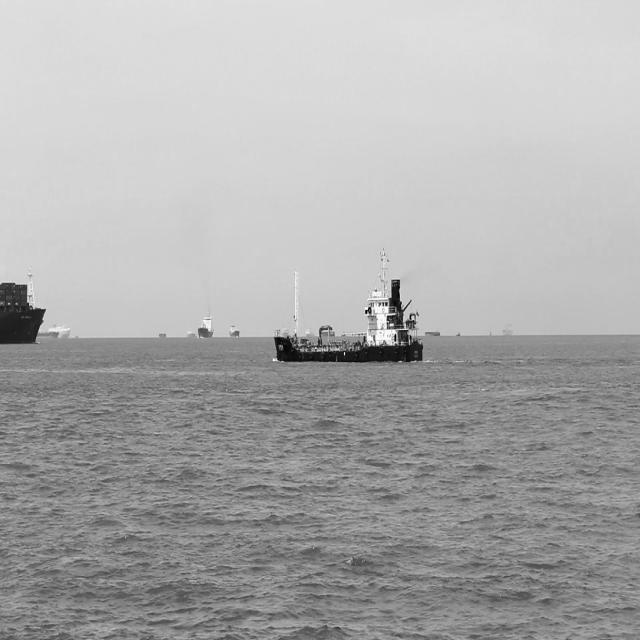ship: (272, 242, 427, 368), (1, 259, 46, 350), (40, 322, 74, 344), (197, 308, 215, 342), (227, 320, 242, 343), (424, 323, 442, 341), (500, 319, 515, 339), (156, 326, 170, 344), (185, 327, 197, 344)
